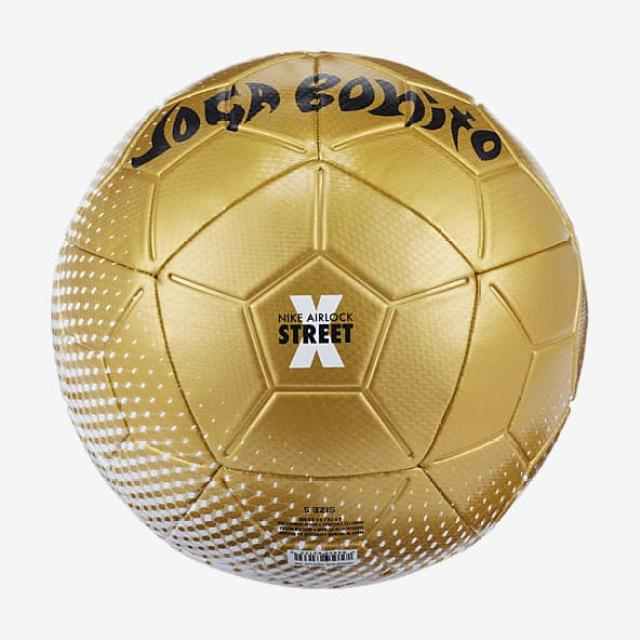soccer ball: (53, 50, 589, 591)
